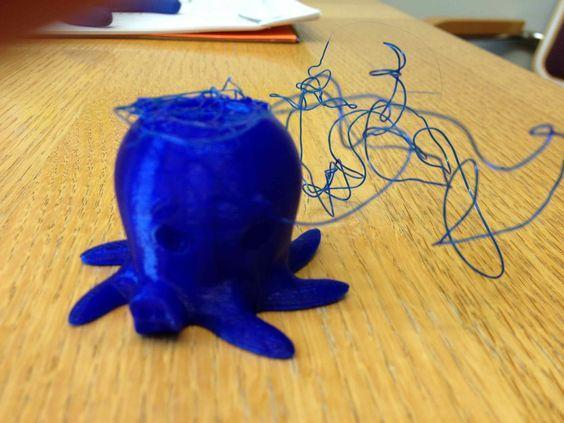Spaghetti: (280, 39, 563, 277), (113, 87, 275, 136)
